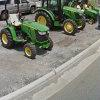Tractor: (3, 5, 60, 66)
